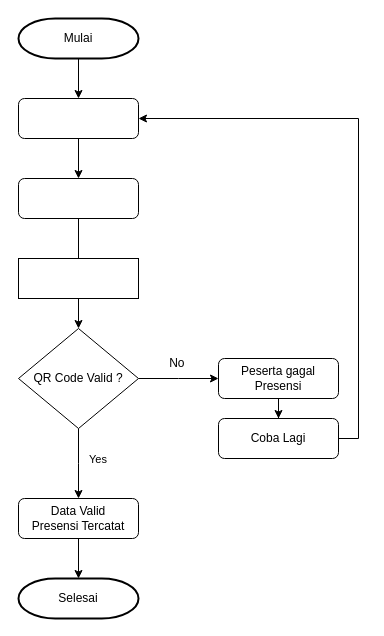
Some shapes in this 384 by 636 pixel diagram are drawn without their labels. Here are the shapes that lost their labels. From the top down, the centre of each, then its label:
At [78,118]: "Generate QR Code".
At [78,198]: "Scan QR Code".
At [78,278]: "Verifikasi QR Code Validitas".
